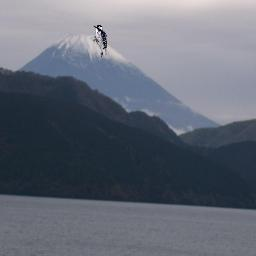Woodpecker: (93, 25, 107, 57)
